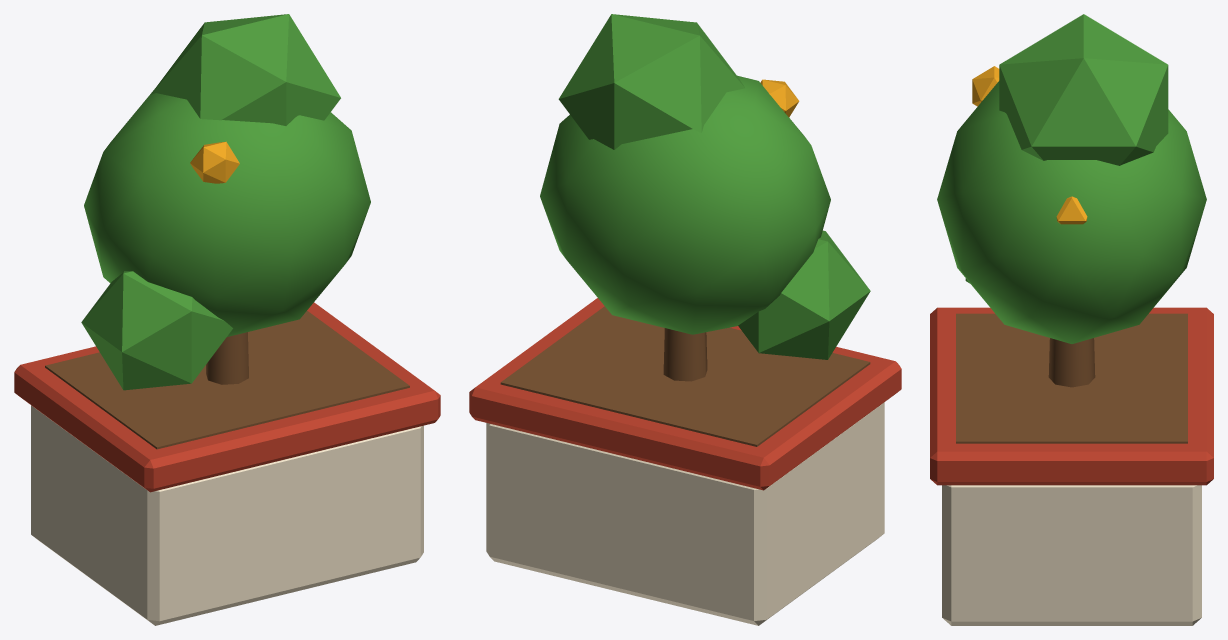
The model's file is planter.obj.
3 views of the same model, side by side, from view 1: azimuth 30°, elevation 25°; view 2: azimuth 150°, elevation 25°; view 3: azimuth 270°, elevation 25° (orthographic). The views are drawn at different scales.
Visible parts, largest first — view 1: pot, bush_main, soil, pot_rim, bush_top, bush_side, stem, flower_1; view 2: pot, bush_main, soil, pot_rim, bush_top, bush_side, stem, flower_1; view 3: bush_main, pot, soil, pot_rim, bush_top, stem, flower_1, flower_0.
Part boxes in pixels (bbox=[...]): pot: bbox=[31, 405, 423, 625]; bush_main: bbox=[84, 90, 370, 336]; soil: bbox=[45, 311, 409, 449]; pot_rim: bbox=[14, 302, 440, 492]; bush_top: bbox=[150, 14, 340, 125]; bush_side: bbox=[81, 271, 232, 390]; stem: bbox=[206, 332, 248, 384]; flower_1: bbox=[190, 141, 239, 183]; pot: bbox=[486, 402, 884, 625]; bush_main: bbox=[540, 75, 830, 334]; soil: bbox=[500, 306, 870, 446]; pot_rim: bbox=[469, 298, 901, 490]; bush_top: bbox=[558, 14, 744, 149]; bush_side: bbox=[738, 230, 870, 359]; stem: bbox=[663, 328, 707, 381]; flower_1: bbox=[760, 79, 799, 117]; bush_main: bbox=[937, 81, 1206, 343]; pot: bbox=[942, 485, 1201, 625]; soil: bbox=[956, 313, 1187, 443]; pot_rim: bbox=[930, 307, 1213, 485]; bush_top: bbox=[999, 14, 1168, 165]; stem: bbox=[1048, 338, 1095, 387]; flower_1: bbox=[972, 66, 999, 106]; flower_0: bbox=[1056, 196, 1087, 224].
Size of the model in its own units: 1.5 by 2.5 by 1.2.
